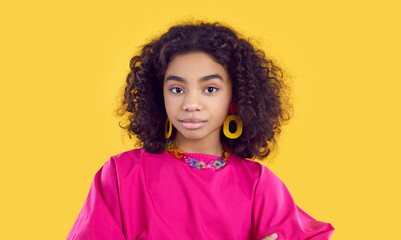teen: (119, 24, 274, 163)
